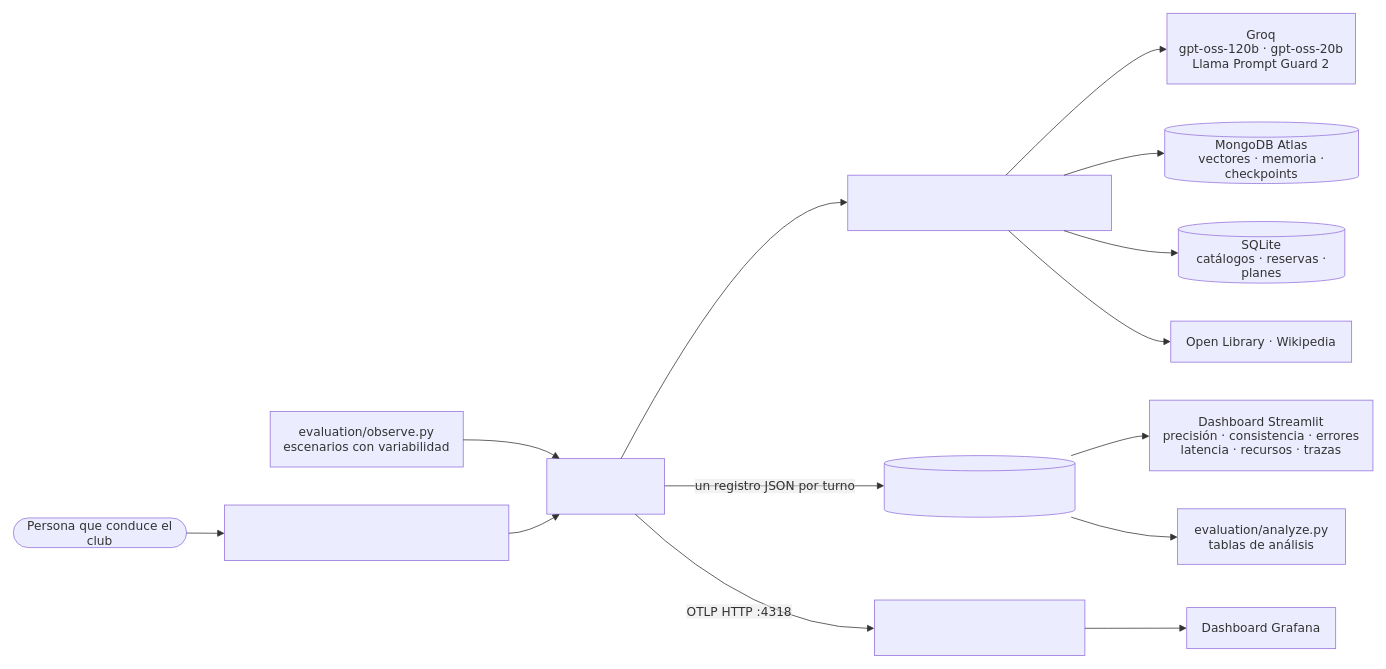
The diagram is 1386 pixels wide and 669 high, and some of its shapes have lost their labels. Here are the shapes that lost their labels. From the top down, the box of each, then its label:
(847, 174, 1112, 231): Agente LangGraph guardrails + planificador + herramientas
(546, 458, 665, 514): runtime.ask TurnRecorder
(884, 455, 1075, 517): Logs JSONL logs/ · evaluation/observability/
(224, 504, 509, 560): Streamlit chat · registro · evaluación · observabilidad
(874, 599, 1085, 656): Contenedor grafana/otel-lgtm Tempo · Prometheus
